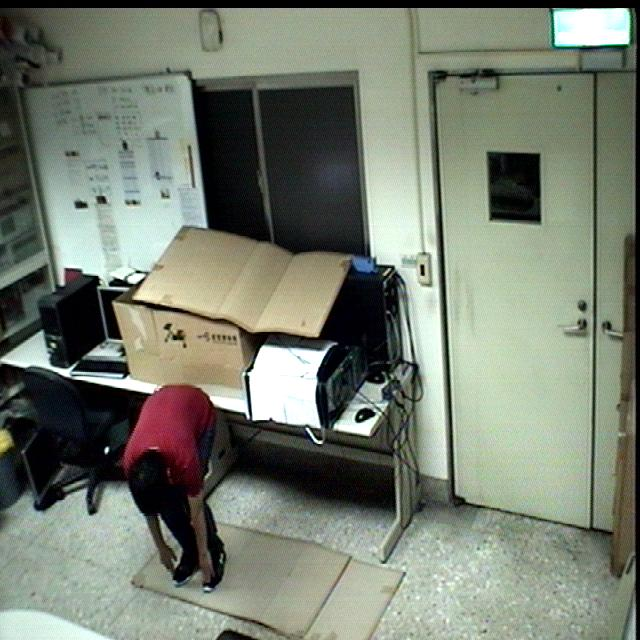bend: (111, 376, 233, 594)
